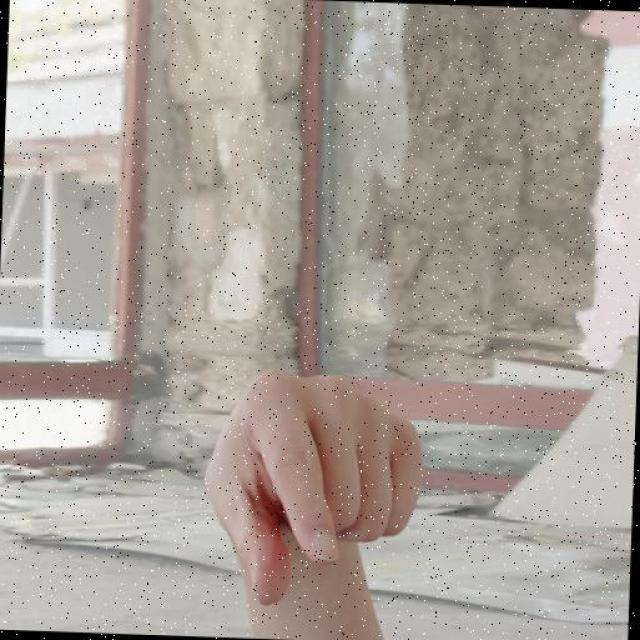Q: (182, 340, 474, 640)
